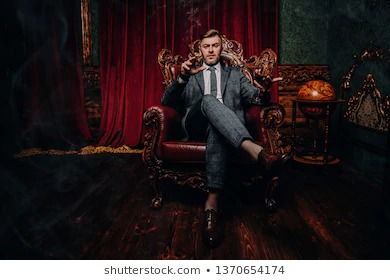F_dress pants: (190, 92, 255, 194)
